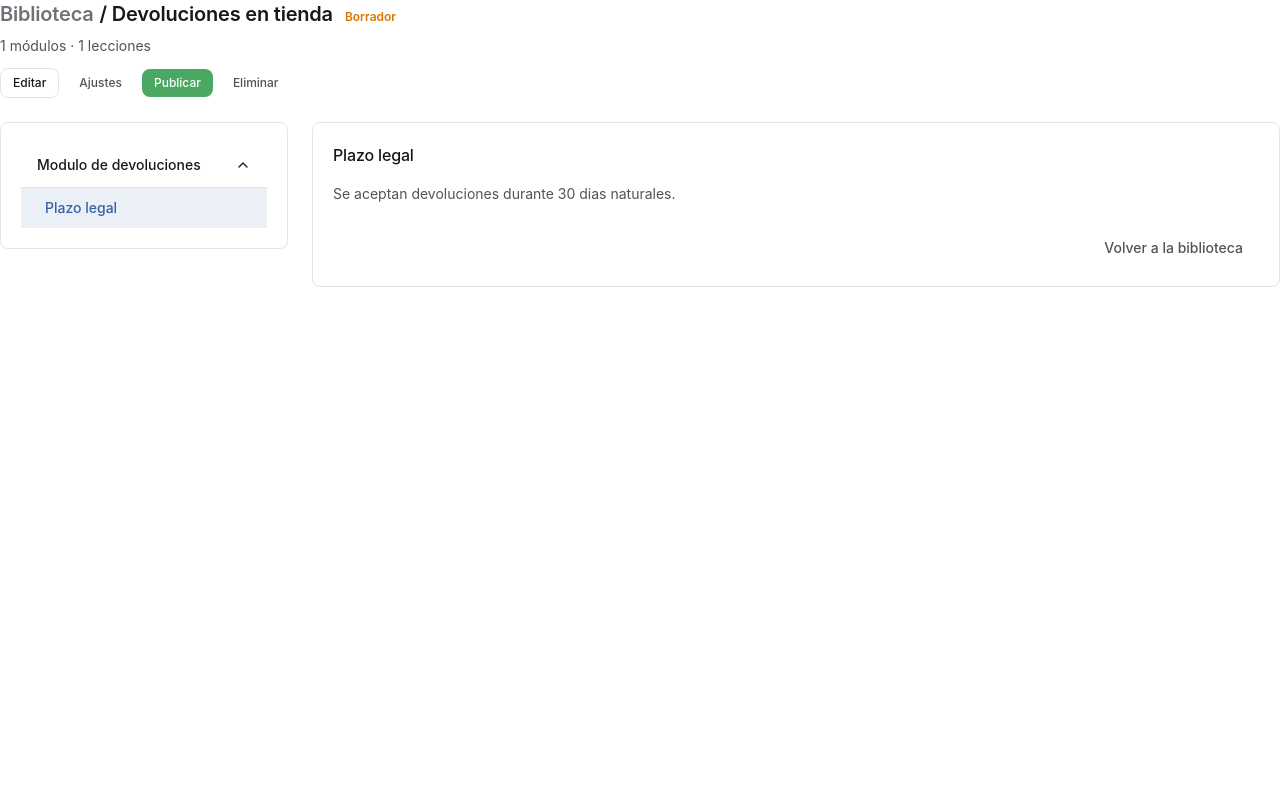
CoursePreview — deleting the draft on screen › demands the title here too when somebody already completed the course
The width and height of the screenshot is (1280, 800).
Click the button "Eliminar". click: (256, 83)
box: x1=221 y1=69 x2=290 y2=97
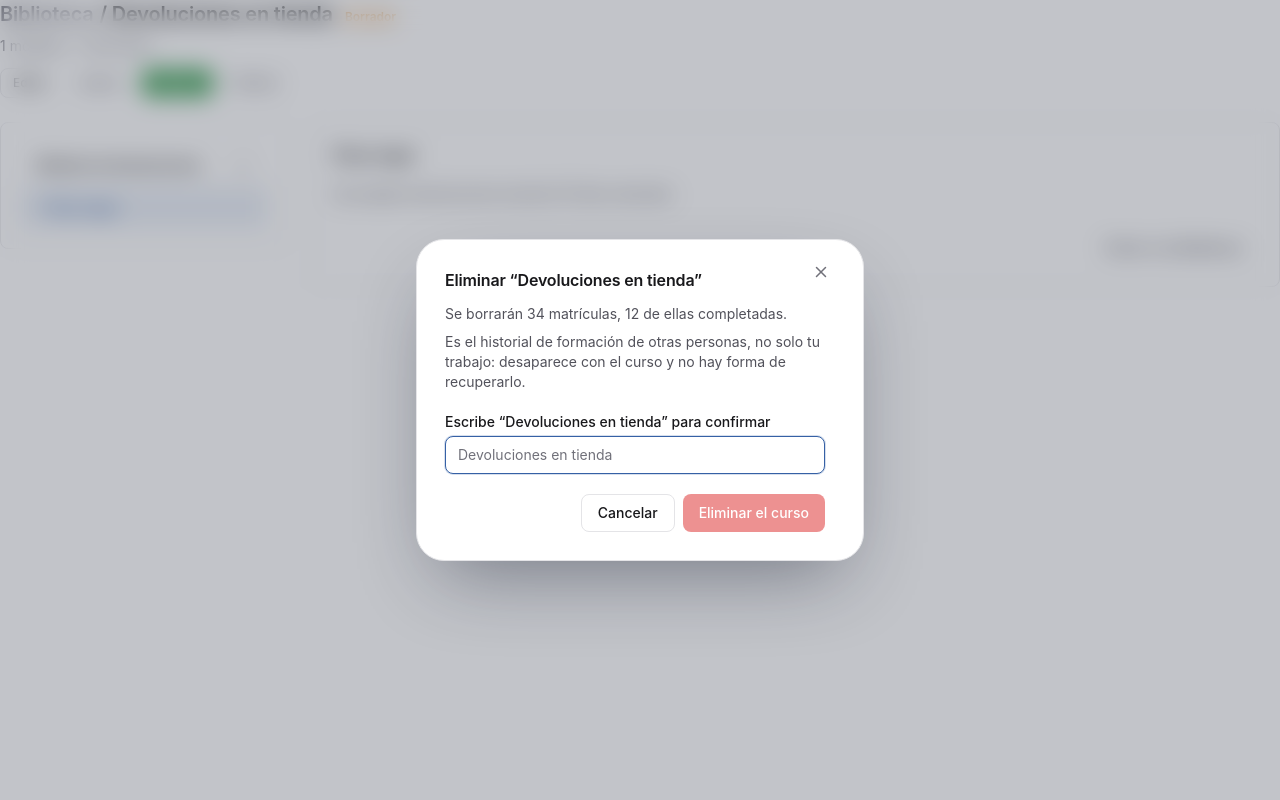
expect the button "Eliminar el curso" is disabled: met, box x1=683 y1=494 x2=825 y2=532
